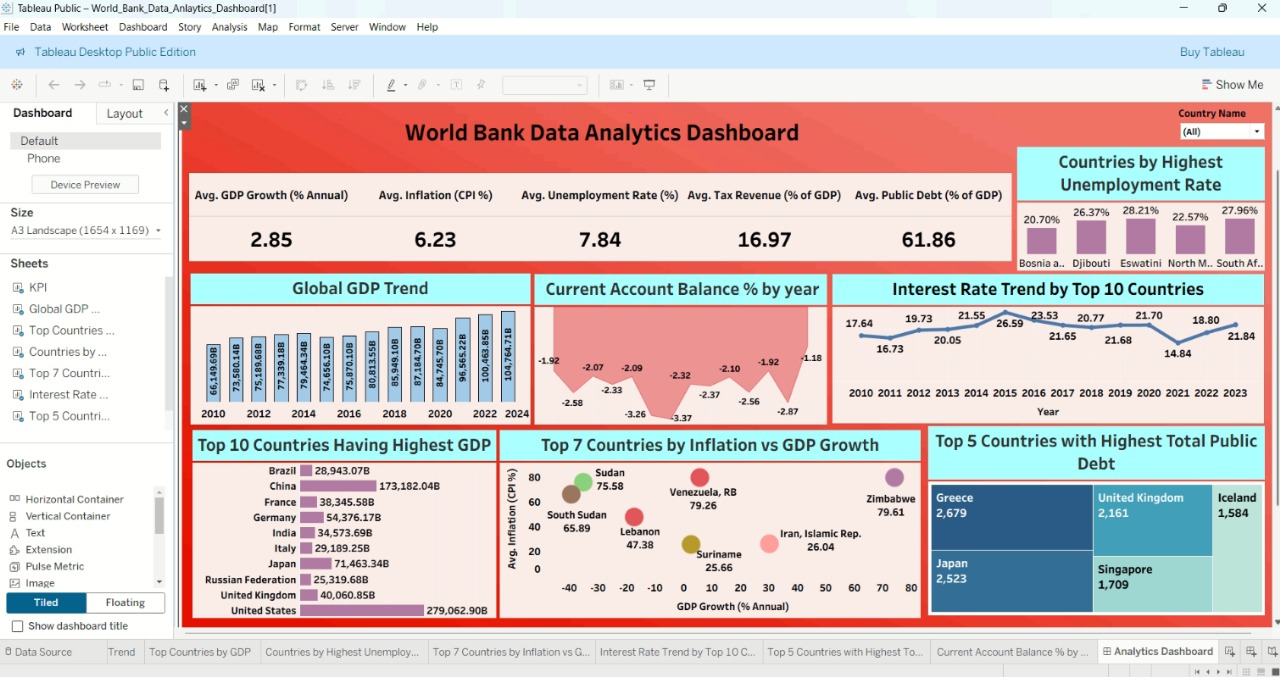

The page's visual inventory and layout, read from the dashboard file:
{"tool":"tableau","page":{"name":"Analytics Dashboard","canvas":[1654,1169],"ordinal":0},"visuals":[{"type":"image","param":"Image/red_solid_light_65848_2560x1440.jpg","box":[8,8,1638,1153]},{"type":"text","box":[25,148,1229,52]},{"type":"worksheet","title":"Countries by Highest Unemployment Rate","mark":"Bar","rows":["Unemployment Rate (%)"],"cols":["country_name"],"box":[1260,197,370,185]},{"type":"worksheet","title":"KPI","mark":"Automatic","box":[23,236,1229,132]},{"type":"worksheet","title":"Global GDP Trend","mark":"Bar","rows":["GDP (Current USD)"],"cols":["year"],"box":[25,386,508,226]},{"type":"worksheet","title":" Current Account Balance % by year","mark":"Area","rows":["Current Account Balance (% GDP)"],"cols":["year"],"box":[539,387,437,225]},{"type":"worksheet","title":"Interest Rate Trend by Top 10 Countries","mark":"Line","rows":["Interest Rate (Real, %)"],"cols":["year"],"box":[984,387,645,223]},{"type":"worksheet","title":"Top 5 Countries with Highest Total Public Debt","mark":"Automatic","box":[1127,614,503,283]},{"type":"worksheet","title":"Top Countries by GDP","mark":"Automatic","rows":["country_name"],"cols":["GDP (Current USD)"],"box":[28,620,454,281]},{"type":"worksheet","title":"Top 7 Countries by Inflation vs GDP Growth","mark":"Automatic","rows":["Inflation (CPI %)"],"cols":["GDP Growth (% Annual)"],"box":[487,620,629,281]}]}

Visuals, with their boxes on the page's 1654x1169 design canvas (x1, y1, x2, y2). These are canvas units, not pixel positions in the 1280x677 screenshot, which may show the page scaled, cropped or inside an application window:
image: l=8, t=8, r=1646, b=1161
text: l=25, t=148, r=1254, b=200
"Countries by Highest Unemployment Rate" worksheet (Bar marks): l=1260, t=197, r=1630, b=382
"KPI" worksheet: l=23, t=236, r=1252, b=368
"Global GDP Trend" worksheet (Bar marks): l=25, t=386, r=533, b=612
" Current Account Balance % by year" worksheet (Area marks): l=539, t=387, r=976, b=612
"Interest Rate Trend by Top 10 Countries" worksheet (Line marks): l=984, t=387, r=1629, b=610
"Top 5 Countries with Highest Total Public Debt" worksheet: l=1127, t=614, r=1630, b=897
"Top Countries by GDP" worksheet: l=28, t=620, r=482, b=901
"Top 7 Countries by Inflation vs GDP Growth" worksheet: l=487, t=620, r=1116, b=901
